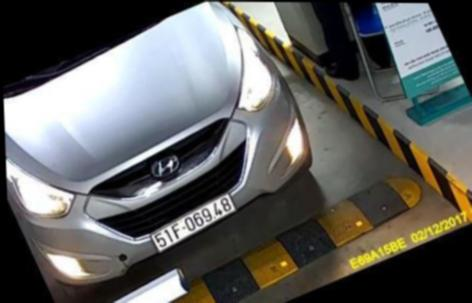License_Plate: (141, 193, 241, 255)
